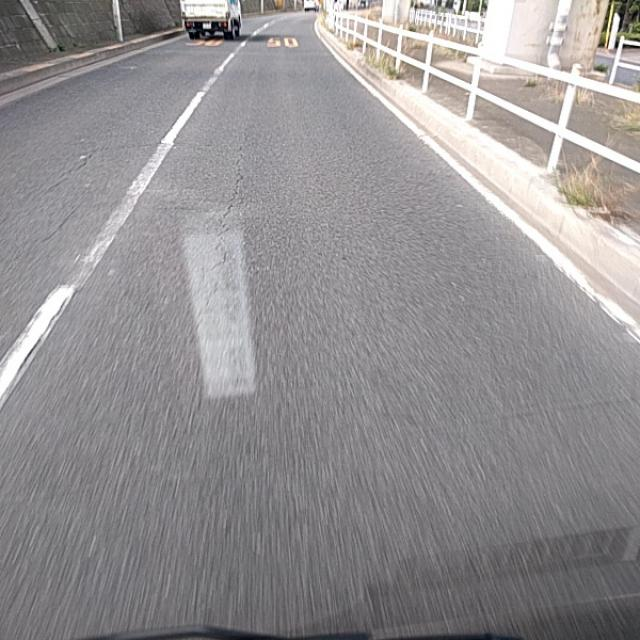pothole: (156, 231, 240, 316)
